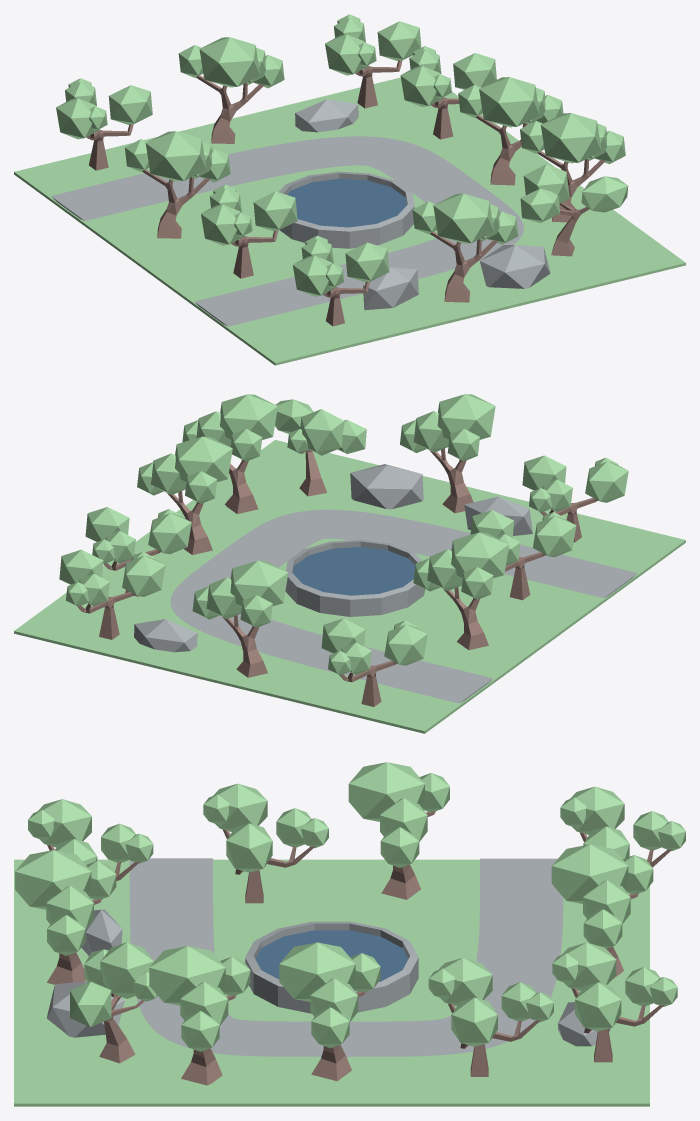
Rendered from taman.glb.
The picture shows the model from 3 angles, top to bottom: view 1: azimuth 30°, elevation 25°; view 2: azimuth 150°, elevation 25°; view 3: azimuth 270°, elevation 25°; orthographic projection. The views are drawn at different scales.
Visible parts, largest first — view 1: Cube.002, Plane, Cylinder, Icosphere.051, Icosphere.026, Icosphere.030, Icosphere.007, Icosphere.039, Icosphere.043, Icosphere.050, Icosphere.049, Icosphere.002 (+32 smaller); view 2: Cube.002, Plane, Cylinder, Icosphere.051, Icosphere.007, Icosphere.043, Icosphere.026, Icosphere.039, Icosphere.030, Icosphere.049, Icosphere.011, Icosphere.034 (+36 smaller); view 3: Cube.002, Plane, Cylinder, Icosphere.039, Icosphere.007, Icosphere.030, Icosphere.026, Icosphere.043, Icosphere.011, Icosphere.046, Icosphere.002, Icosphere.015 (+50 smaller).
Boxes of the visible parts, <box> form: Cube.002: <box>14,77,685,365</box>; Plane: <box>51,136,523,326</box>; Cylinder: <box>278,171,414,248</box>; Icosphere.051: <box>480,245,550,288</box>; Icosphere.026: <box>145,131,206,181</box>; Icosphere.030: <box>433,193,494,243</box>; Icosphere.007: <box>479,77,539,127</box>; Icosphere.039: <box>199,37,260,87</box>; Icosphere.043: <box>541,113,601,163</box>; Icosphere.050: <box>363,267,418,310</box>; Icosphere.049: <box>295,99,358,132</box>; Icosphere.002: <box>253,191,297,231</box>; Cube.002: <box>14,440,685,733</box>; Plane: <box>170,509,637,703</box>; Cylinder: <box>285,539,424,616</box>; Icosphere.051: <box>350,464,423,509</box>; Icosphere.007: <box>175,436,232,482</box>; Icosphere.043: <box>220,394,277,439</box>; Icosphere.026: <box>451,532,508,578</box>; Icosphere.039: <box>230,560,288,606</box>; Icosphere.030: <box>437,394,495,439</box>; Icosphere.049: <box>134,619,197,652</box>; Icosphere.011: <box>300,409,344,455</box>; Icosphere.034: <box>585,461,628,502</box>; Cube.002: <box>14,859,649,1106</box>; Plane: <box>129,858,563,1056</box>; Cylinder: <box>245,921,418,1013</box>; Icosphere.039: <box>551,844,628,903</box>; Icosphere.007: <box>279,942,355,1001</box>; Icosphere.030: <box>15,850,91,909</box>; Icosphere.026: <box>348,762,424,821</box>; Icosphere.043: <box>149,946,225,1005</box>; Icosphere.011: <box>100,942,153,998</box>; Icosphere.046: <box>451,997,497,1046</box>; Icosphere.002: <box>226,823,272,872</box>; Icosphere.015: <box>575,982,621,1031</box>.
Bounding box in the file's own units: 34.13 × 10.07 × 38.39.
